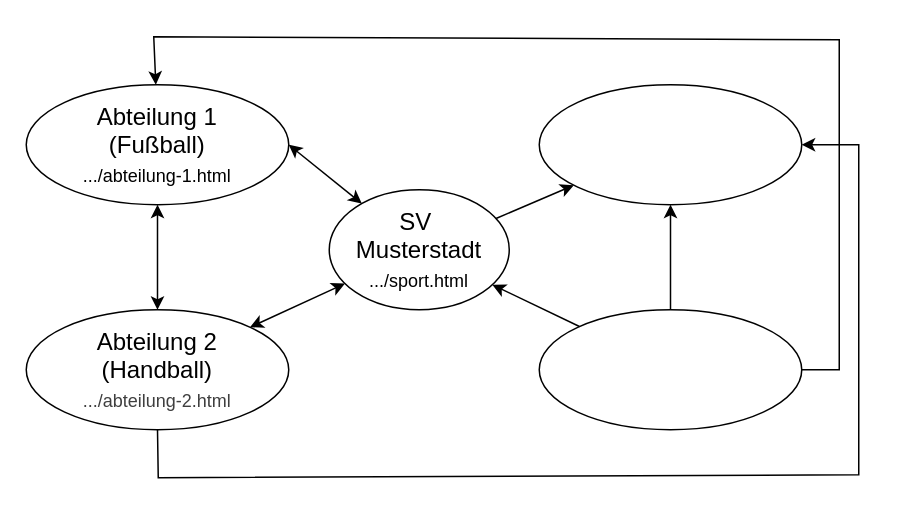
Image size: 897x516. Some labels were removed from this diagram. The box of each missing label's shape, as (x1, y1, x2, y2) in pixels:
Abteilung 3 (Volleyball) .../abteilung-3.html: (538, 83, 802, 205)
Abteilung 4 (Bogenschießen) .../abteilung-4.html: (538, 308, 802, 430)
